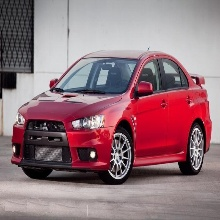no damage: (11, 50, 213, 184)
